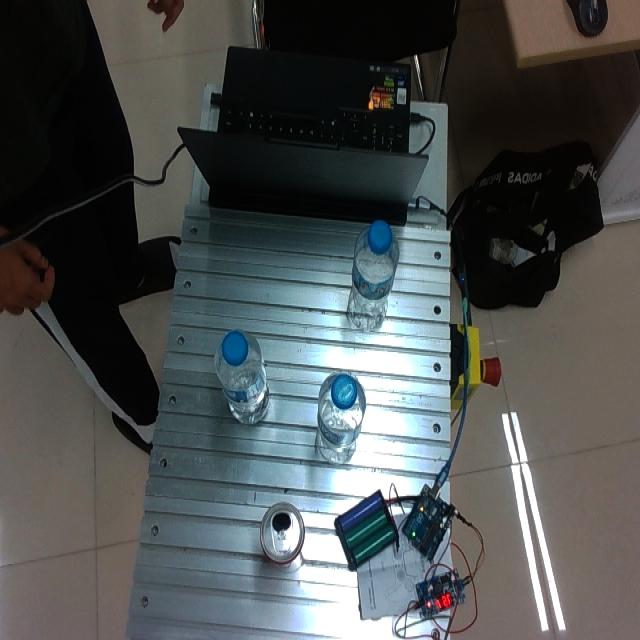coca: (260, 501, 306, 568)
lavie: (348, 220, 399, 333), (215, 331, 270, 424), (317, 370, 366, 462)
